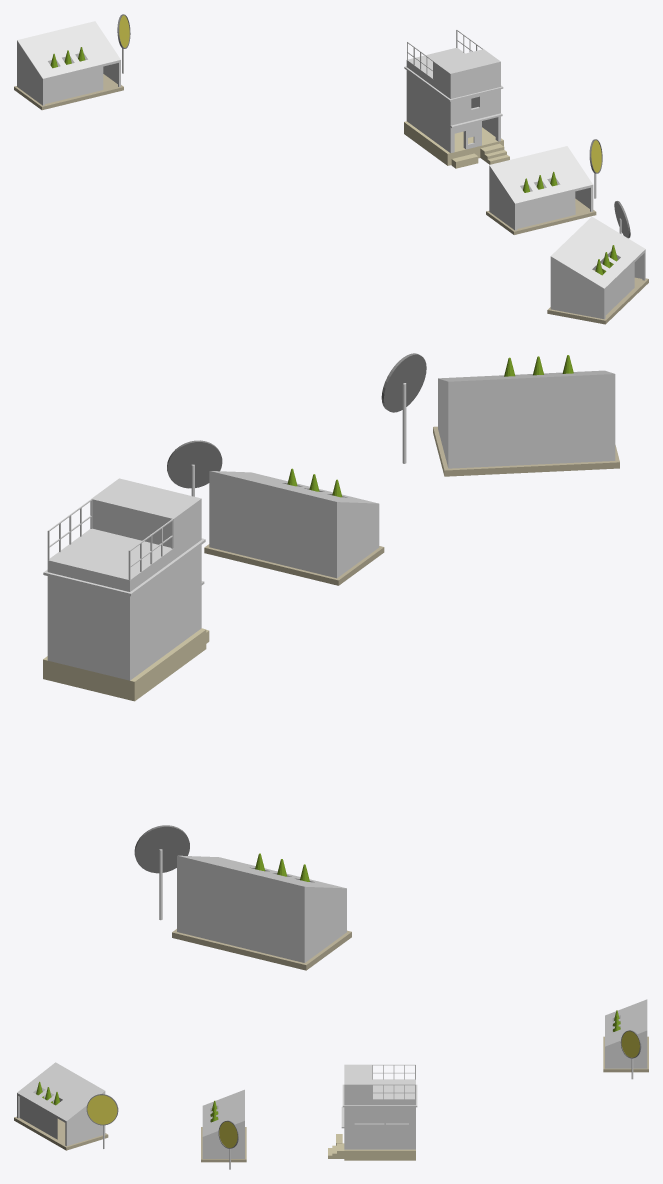
File: iksun2.gltf
3 renders of one model, top to bottom at view 1: azimuth 30°, elevation 25°; view 2: azimuth 150°, elevation 25°; view 3: azimuth 270°, elevation 25°, orthographic. The views are drawn at different scales.
Parts seen in each view (by area): view 1: Cube.013, Cube.006, Cube.004, Cube, Cube.009, Cube.005, Cube.002, Cube.007, Cube.012; view 2: Cube.013, Cube.006, Cube.004, Cube, Cube.009, Cylinder, Cylinder.006, Cube.007, Cylinder.009, Cube.005, Cube.002; view 3: Cube.013, Cube.006, Cube, Cube.004, Cube.009, Cylinder.009, Cube.007, Cylinder, Cylinder.006, Cube.002, Cube.010, Cube.005.
Part boxes in pixels (x1,y1,x2,y2): Cube.013: (404,48,503,153); Cube.006: (550,216,645,319); Cube.004: (489,146,593,230); Cube: (17,21,120,105); Cube.009: (404,121,503,165); Cube.005: (486,198,596,234); Cube.002: (14,74,123,110); Cube.007: (547,270,648,324); Cube.012: (480,143,509,164); Cube.013: (43,478,205,680); Cube.006: (438,370,615,468); Cube.004: (209,471,379,578); Cube: (177,855,346,962); Cube.009: (43,628,206,701); Cylinder: (134,825,189,873); Cylinder.006: (167,440,222,488); Cube.007: (433,426,619,476); Cylinder.009: (381,353,426,412); Cube.005: (204,544,384,585); Cube.002: (172,929,351,970); Cube.013: (341,1064,417,1149); Cube.006: (17,1062,105,1146); Cube: (605,999,647,1068); Cube.004: (202,1089,244,1158); Cube.009: (344,1149,415,1160); Cylinder.009: (86,1094,118,1125); Cube.007: (14,1116,108,1150); Cylinder: (620,1030,641,1058); Cylinder.006: (218,1120,238,1148); Cube.002: (603,1036,648,1072); Cube.010: (373,1064,414,1093); Cube.005: (201,1127,246,1162).
Size of the model in its own units: 30.12 by 7.84 by 60.15.
